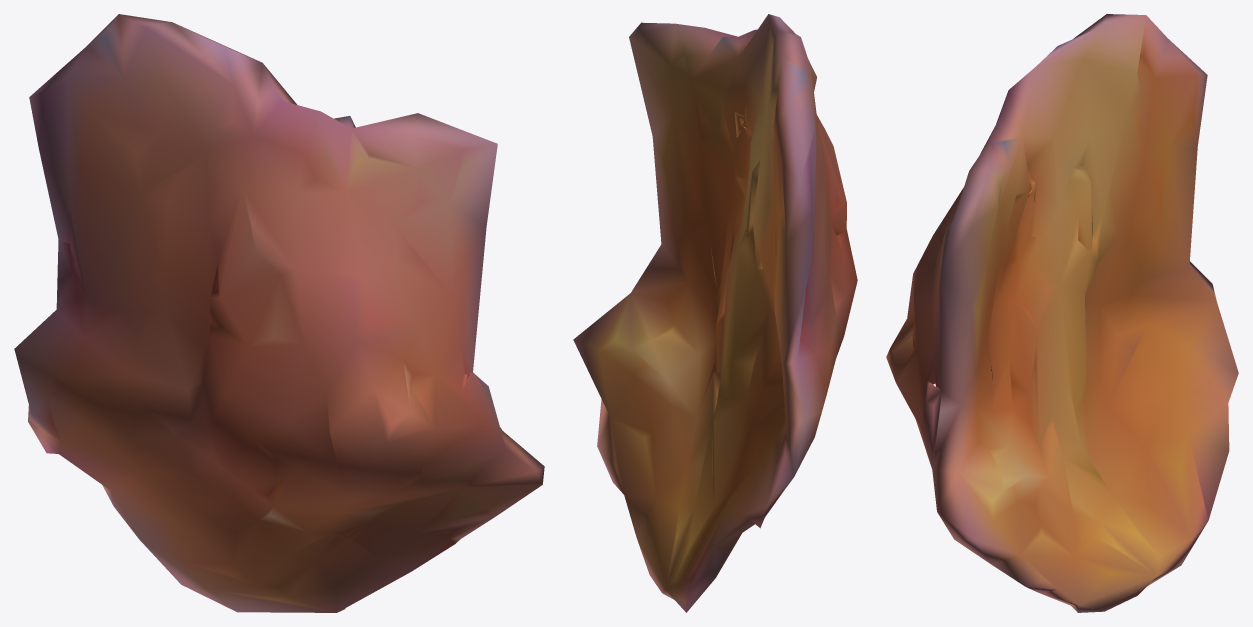
File: fragmento_do_sustenido.glb
The picture shows the model from 3 angles, left to right: view 1: azimuth 30°, elevation 25°; view 2: azimuth 150°, elevation 25°; view 3: azimuth 270°, elevation 25°; orthographic projection. The views are drawn at different scales.
Bounding box in the file's own units: 0.6476 × 0.9883 × 0.5934.
